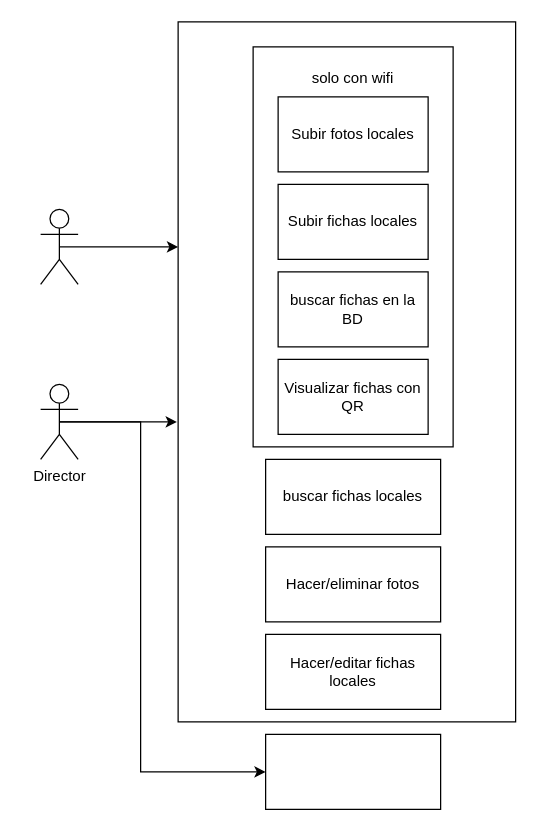
Image size: 538x831. Some labels were removed from this diagram. Here are the shapes that lost their labels. From the top down, the centre of each, then its label:
At (58,246): "Arqueologo".
At (352,771): "Eliminar fichas en la BD".
